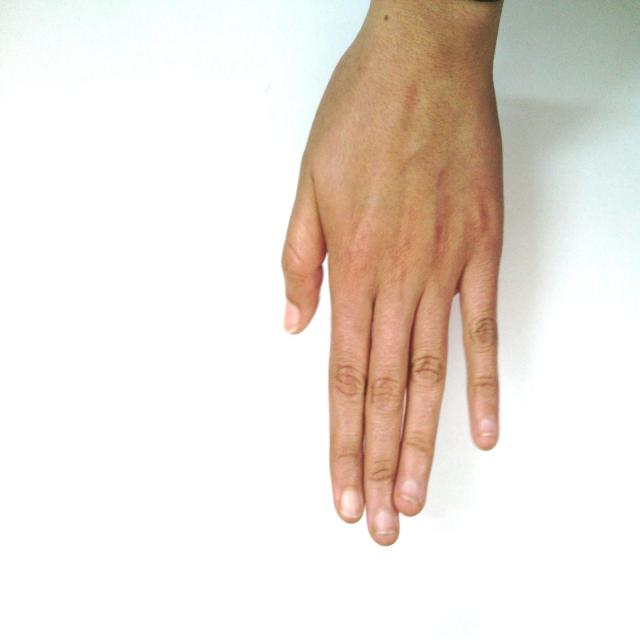others: (224, 1, 590, 558)
